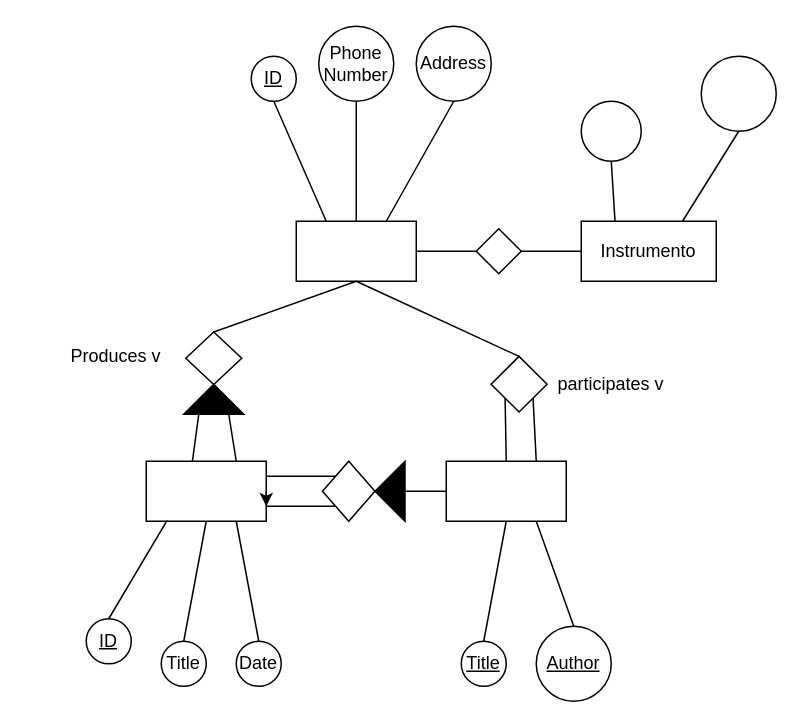
Image size: 803x728. Some labels were removed from this diagram. Each missing label, with the centre of its shape:
"Album" belongs at [205,490].
"Musician" belongs at [355,250].
"Name" belongs at [610,130].
"Song" belongs at [505,490].
"Tonality" belongs at [738,93].
